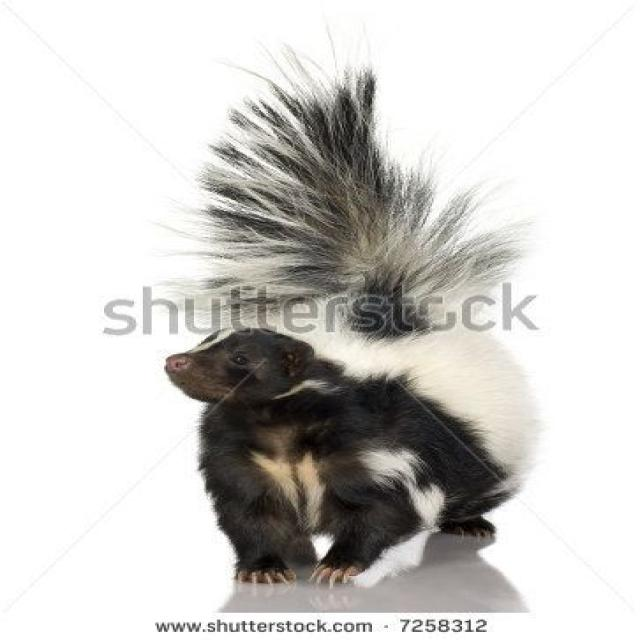Skunk: (116, 47, 535, 596)
